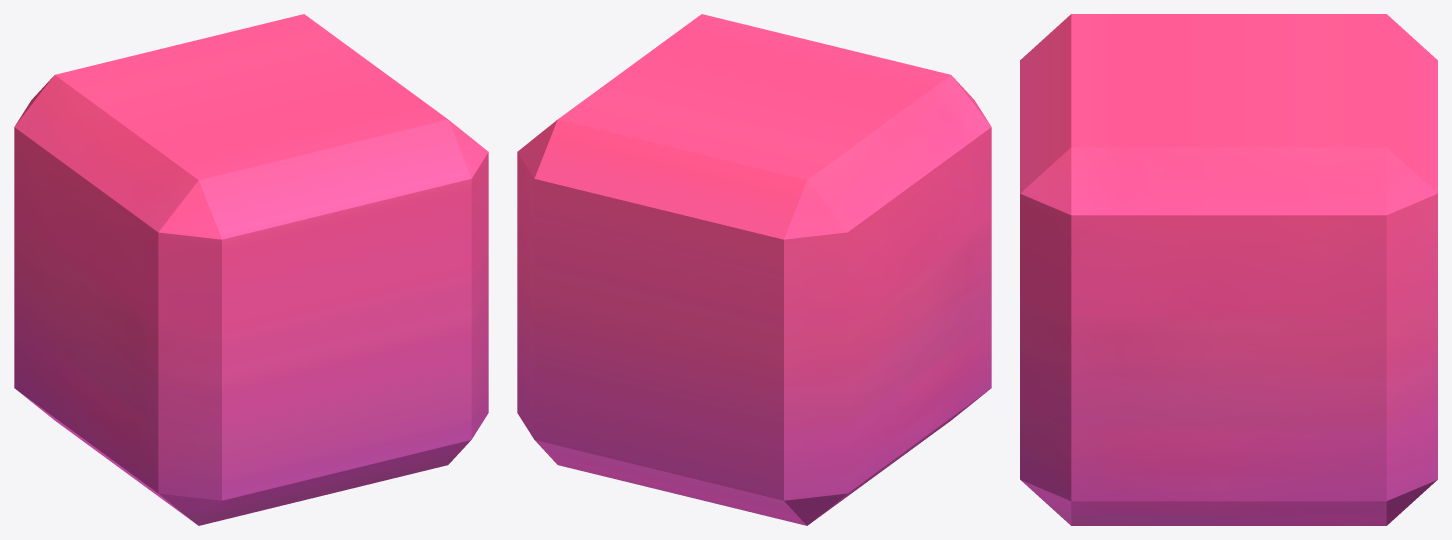
File: 41117439-17bc-4d1f-ac66-c6b3a4c9dadc.glb
3 renders of one model, left to right at view 1: azimuth 30°, elevation 25°; view 2: azimuth 150°, elevation 25°; view 3: azimuth 270°, elevation 25°, orthographic. The views are drawn at different scales.
Visible parts, largest first — view 1: CyberPunkCubeShapeA.010; view 2: CyberPunkCubeShapeA.010; view 3: CyberPunkCubeShapeA.010.
Part boxes in pixels (x1,y1,x2,y2): CyberPunkCubeShapeA.010: [14, 14, 488, 525]; CyberPunkCubeShapeA.010: [517, 14, 991, 525]; CyberPunkCubeShapeA.010: [1020, 14, 1437, 525].
Size of what is drawn, in the model's own units: 0.7462 by 0.7462 by 0.7462.
Materials: 1 (1 with a texture image).
